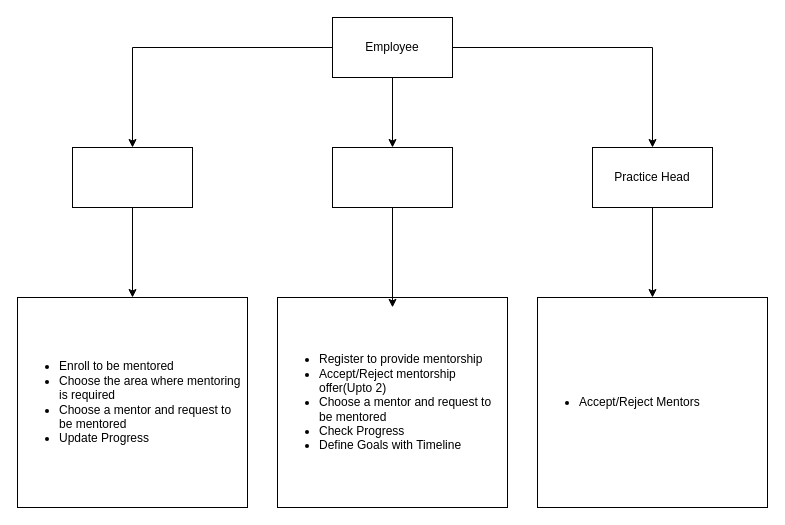
This 785x525 diagram has some shape labels left out. The shapes that lost their labels are listed below. From the top down, each one's centre as x and y in pixels, then its label:
At point 132,177: "Mentee".
At point 392,177: "Mentor".
